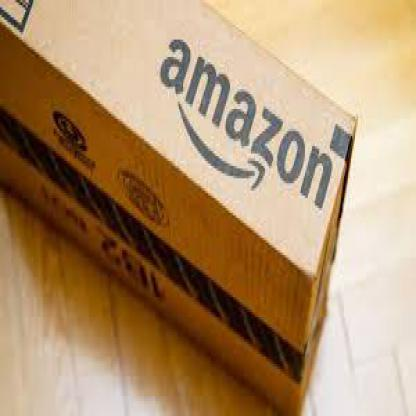package: (0, 0, 361, 414)
